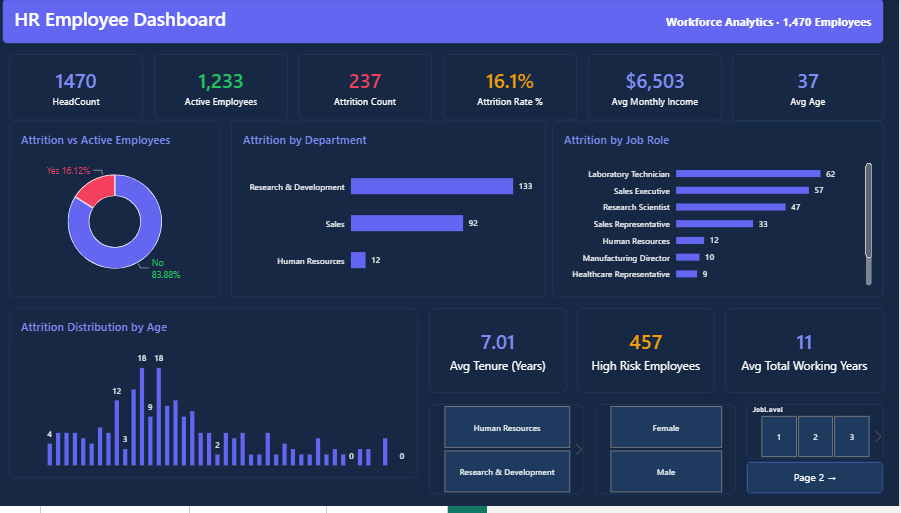

The dashboard page shown, as its layout file describes it:
{"tool":"powerbi","page":{"name":"HR Overview","canvas":[1280,720],"ordinal":0},"visuals":[{"type":"shape","box":[10,0,1250,65],"z":0},{"type":"textbox","box":[19.8,11.3,749.8,41.1],"z":1000},{"type":"textbox","box":[951,22.7,309,24.1],"z":2000},{"type":"card","fields":{"Values":["HR.HeadCount"]},"box":[20,80,190,94],"z":3000},{"type":"card","fields":{"Values":["HR.Active Employees"]},"box":[225,80,190,94],"z":4000},{"type":"card","fields":{"Values":["HR.Attrition Count"]},"box":[430,80,190,94],"z":5000},{"type":"card","fields":{"Values":["HR.Attrition Rate %"]},"box":[635,80,190,94],"z":6000},{"type":"card","fields":{"Values":["HR.Avg Monthly Income"]},"box":[840,80,190,94],"z":7000},{"type":"card","fields":{"Values":["HR.Avg Age"]},"box":[1044.6,79.4,215.4,95],"z":8000},{"type":"donutChart","title":"Attrition vs Active Employees","fields":{"Category":["HR.Attrition"],"Y":["HR.HeadCount"]},"box":[20,175,300,250],"z":9000},{"type":"clusteredBarChart","title":"Attrition by Department","fields":{"Category":["HR.Department"],"Y":["HR.Attrition Count"]},"box":[335,175,446.2,250],"z":10000},{"type":"clusteredBarChart","title":"Attrition by Job Role","fields":{"Category":["HR.JobRole"],"Y":["HR.Attrition Count"]},"box":[790,175,470,250],"z":11000},{"type":"clusteredColumnChart","title":"Attrition Distribution by Age","fields":{"Category":["HR.Age"],"Y":["HR.Attrition Count"]},"box":[20,440,579,241],"z":12000},{"type":"card","fields":{"Values":["HR.Avg Tenure (Years)"]},"box":[615,440,195,120],"z":13000},{"type":"card","fields":{"Values":["HR.High Risk Employees"]},"box":[825,440,195,120],"z":14000},{"type":"card","fields":{"Values":["HR.Avg Total Working Years"]},"box":[1035,440,225,120],"z":15000},{"type":"slicer","fields":{"Values":["HR.Department"]},"box":[615,575.1,219.8,128.4],"z":16000},{"type":"slicer","fields":{"Values":["HR.Gender"]},"box":[850.5,575.1,199.8,128.4],"z":17000},{"type":"slicer","fields":{"Values":["HR.JobLevel"]},"box":[1065,575,195,77.5],"z":18000},{"type":"actionButton","box":[1064.5,656.4,195.5,47.1],"z":19000}]}

Visuals, with their boxes in screenshot pixels (x1, y1, x2, y2), scaled from the page's 1280x720 canvas onto the 901x513 screenshot:
shape: box(7, 0, 887, 46)
textbox: box(14, 8, 542, 37)
textbox: box(669, 16, 887, 33)
card - HR.HeadCount: box(14, 57, 148, 124)
card - HR.Active Employees: box(158, 57, 292, 124)
card - HR.Attrition Count: box(303, 57, 436, 124)
card - HR.Attrition Rate %: box(447, 57, 581, 124)
card - HR.Avg Monthly Income: box(591, 57, 725, 124)
card - HR.Avg Age: box(735, 57, 887, 124)
"Attrition vs Active Employees" donutChart: box(14, 125, 225, 303)
"Attrition by Department" clusteredBarChart: box(236, 125, 550, 303)
"Attrition by Job Role" clusteredBarChart: box(556, 125, 887, 303)
"Attrition Distribution by Age" clusteredColumnChart: box(14, 314, 422, 485)
card - HR.Avg Tenure (Years): box(433, 314, 570, 399)
card - HR.High Risk Employees: box(581, 314, 718, 399)
card - HR.Avg Total Working Years: box(729, 314, 887, 399)
slicer - HR.Department: box(433, 410, 588, 501)
slicer - HR.Gender: box(599, 410, 739, 501)
slicer - HR.JobLevel: box(750, 410, 887, 465)
actionButton: box(749, 468, 887, 501)
